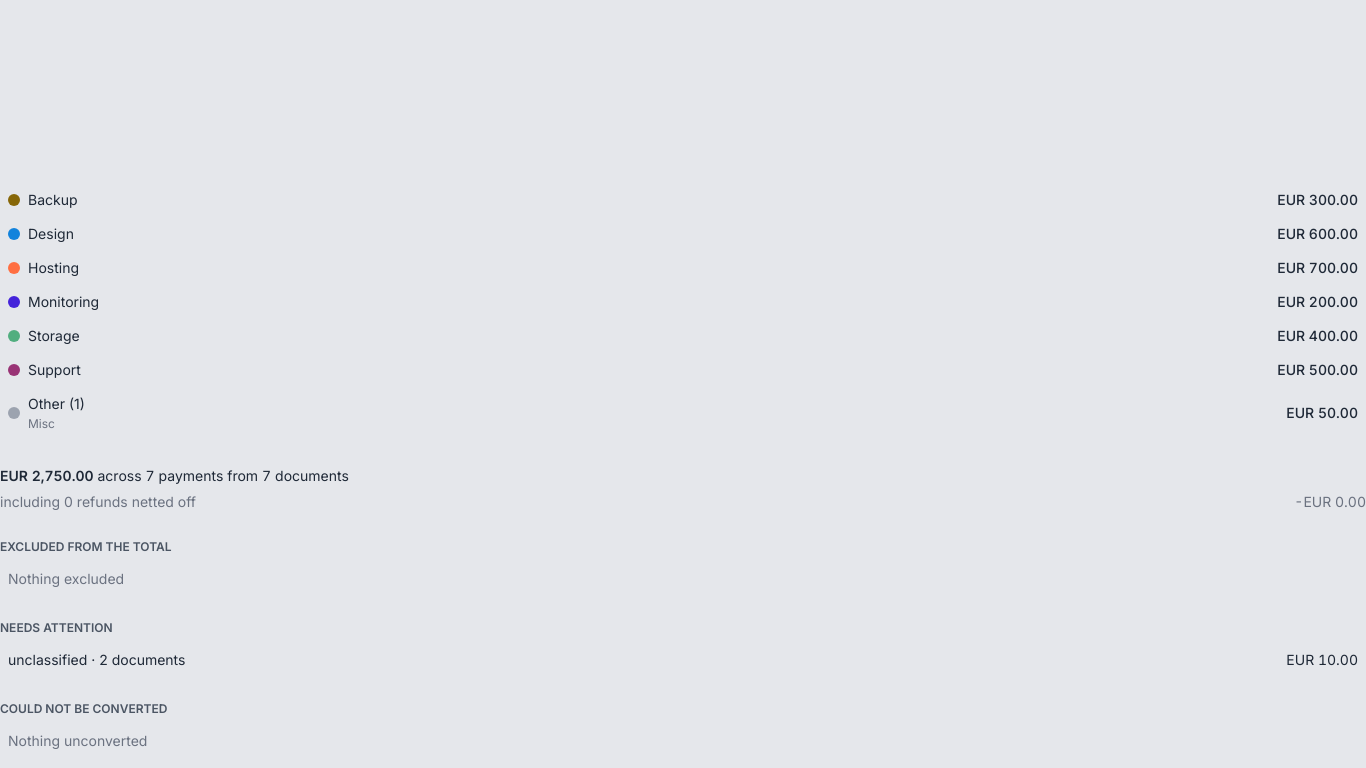
Test: SpendingWorkspaceView › opens a footer bucket in the same panel shell
The width and height of the screenshot is (1366, 768).
(page scrolled)
Click the button with test id "spending-footer-bucket-unclassified": [97, 659] box top-left (0, 645), bottom-right (1365, 675)
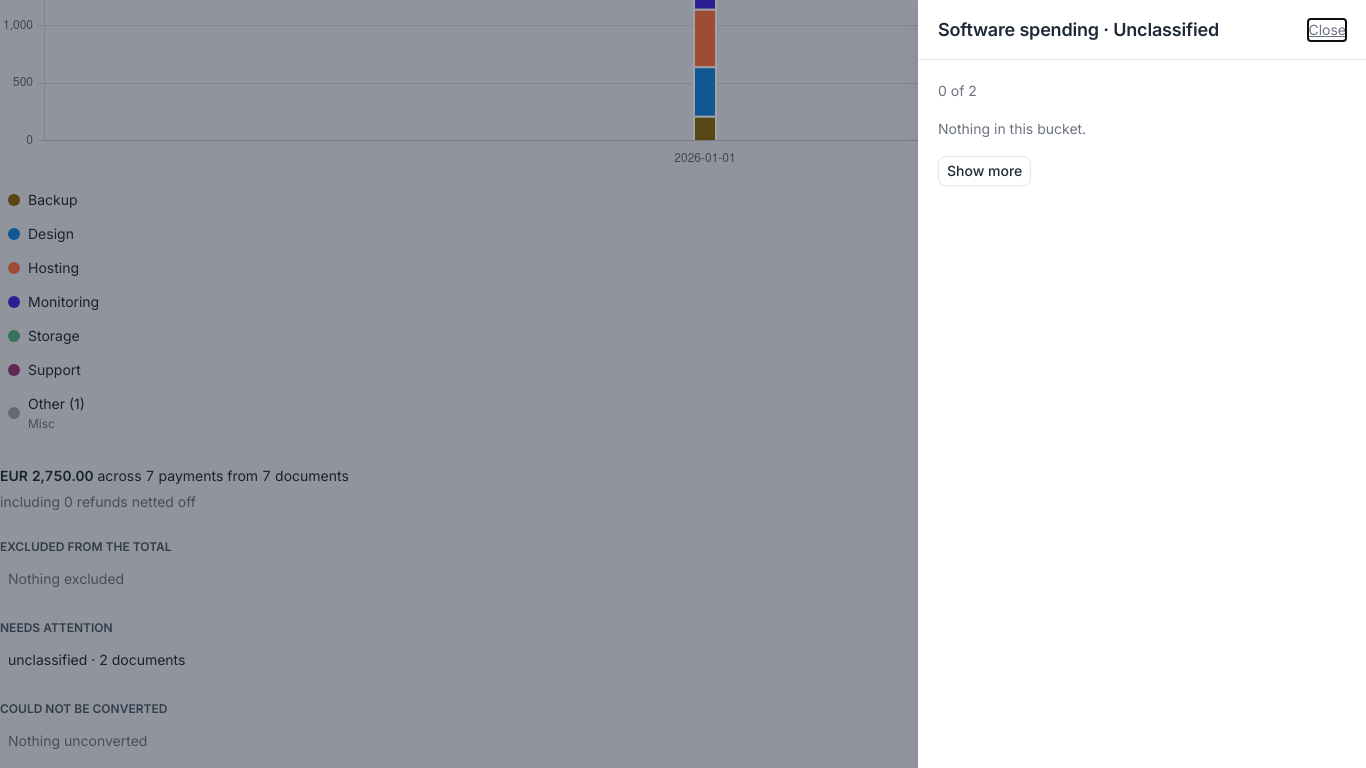
Expected: the element with test id "drill-bucket-body" is shown, top-left (938, 82), bottom-right (1086, 186)
